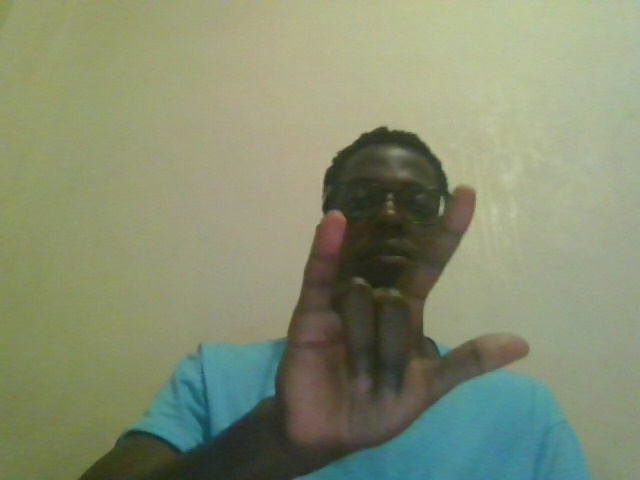I Love You: (265, 184, 558, 467)
